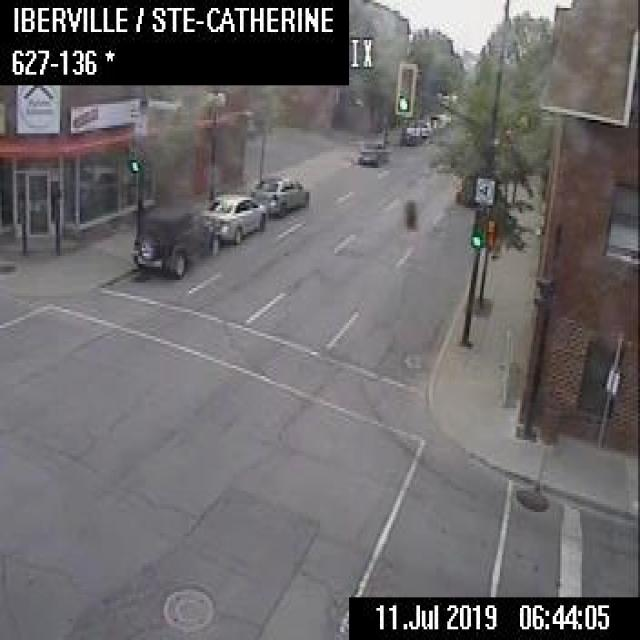vehicle: (129, 205, 218, 277), (201, 190, 264, 240), (249, 171, 309, 215), (358, 138, 390, 166), (412, 115, 434, 134), (398, 126, 418, 144), (428, 110, 450, 126)
